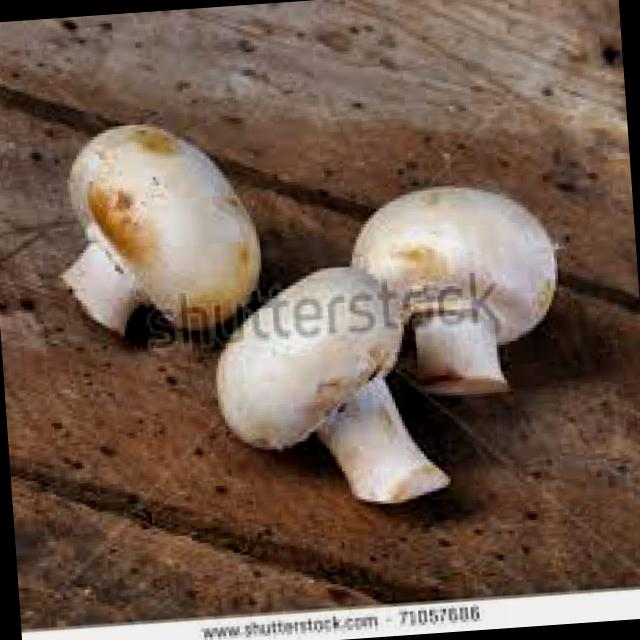Agaricus bisporus: (206, 271, 458, 519), (341, 177, 578, 400), (68, 122, 258, 338)
